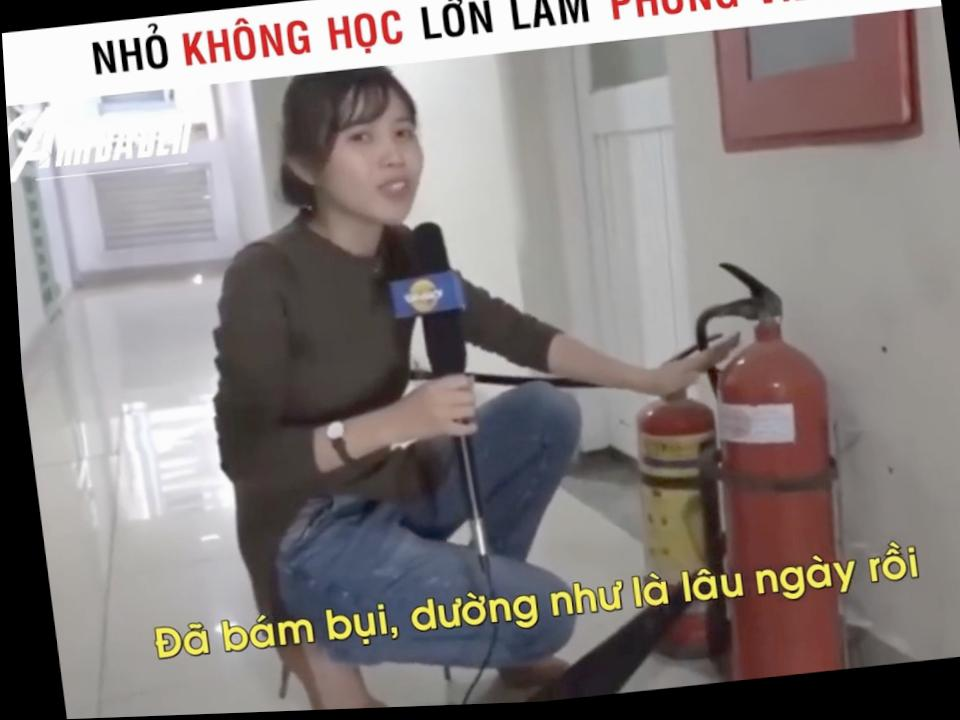FireExtinguisher: (677, 268, 850, 687), (603, 372, 737, 680)
